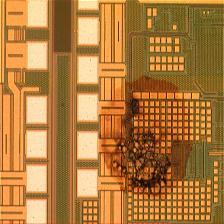BLOCK ETCH: (96, 76, 198, 207)
